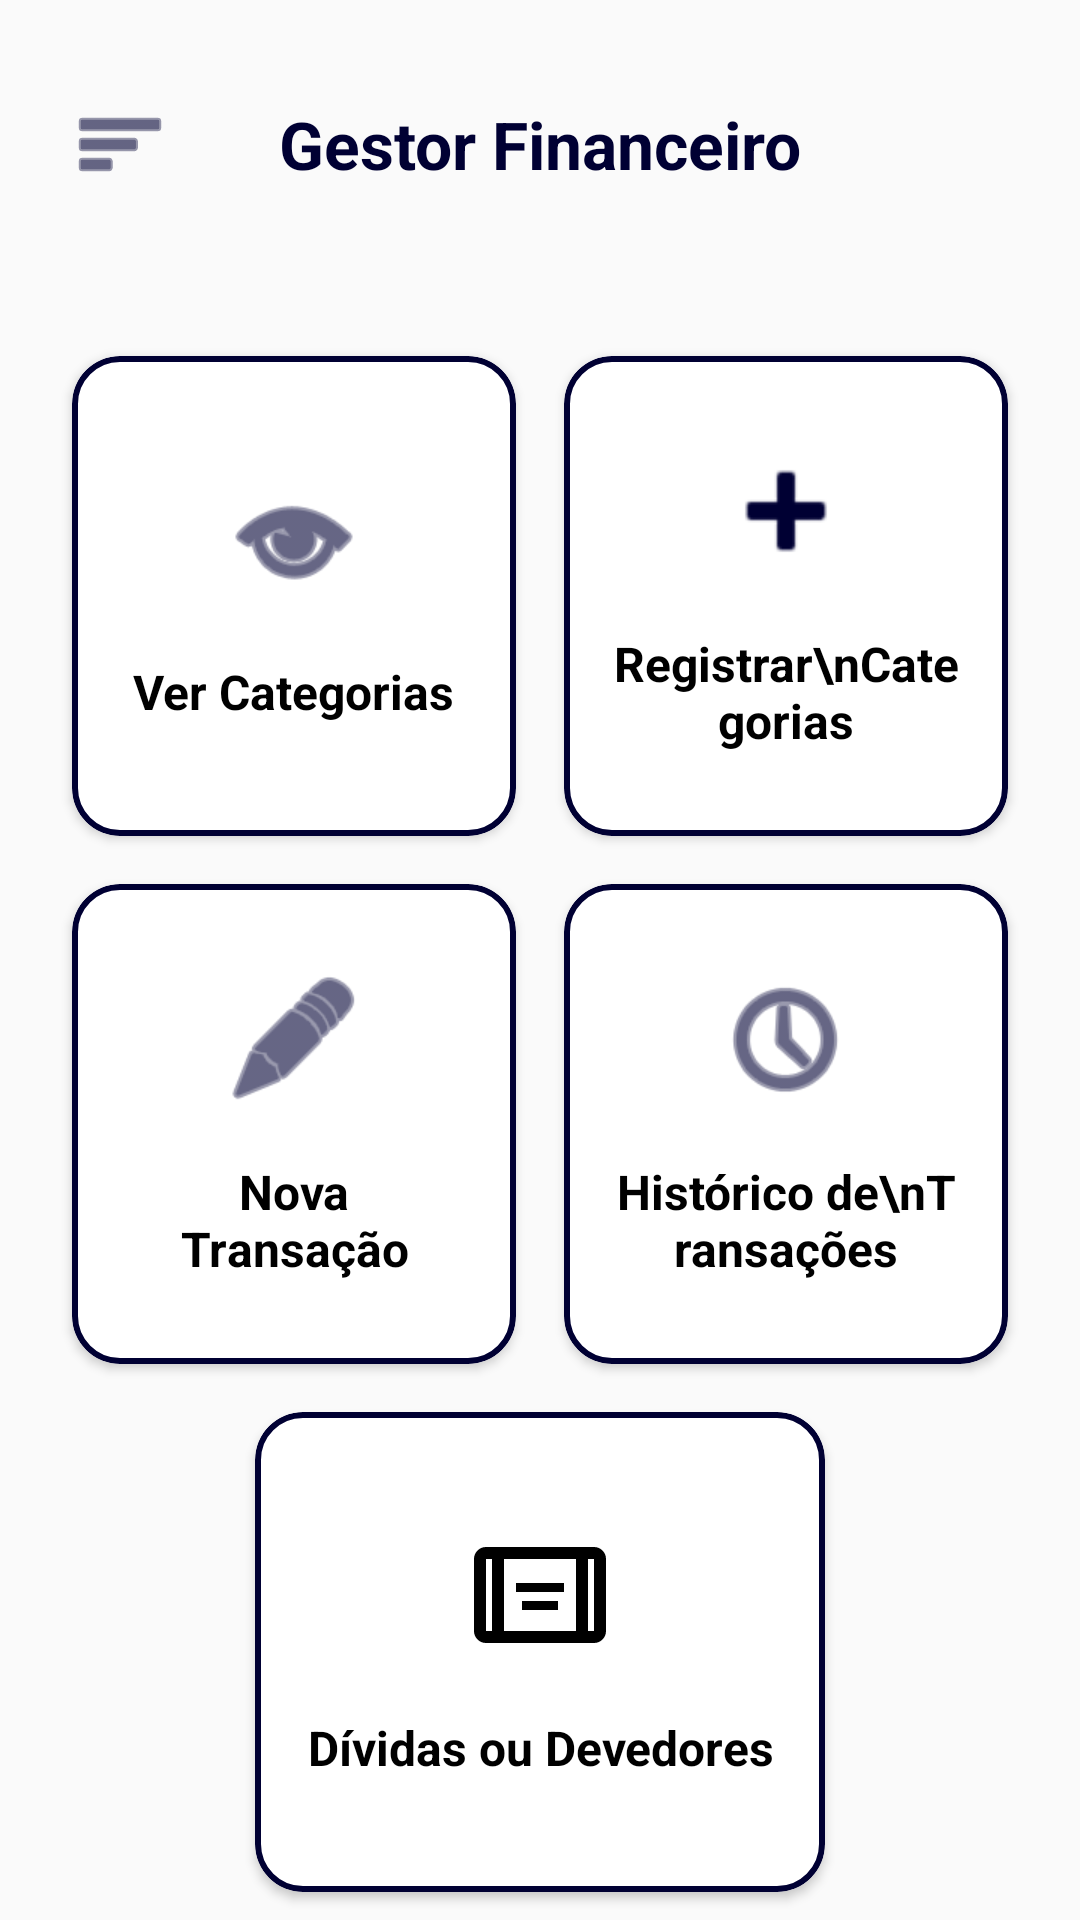

Screen size 1080 × 1920. Icon name, then its center in pixels as [x,y]:
add: [786,511]
Dívidas e Devedores: [540,1595]
edit: [293,1038]
recent history: [785,1040]
sort by size: [120,144]
view: [294,543]
